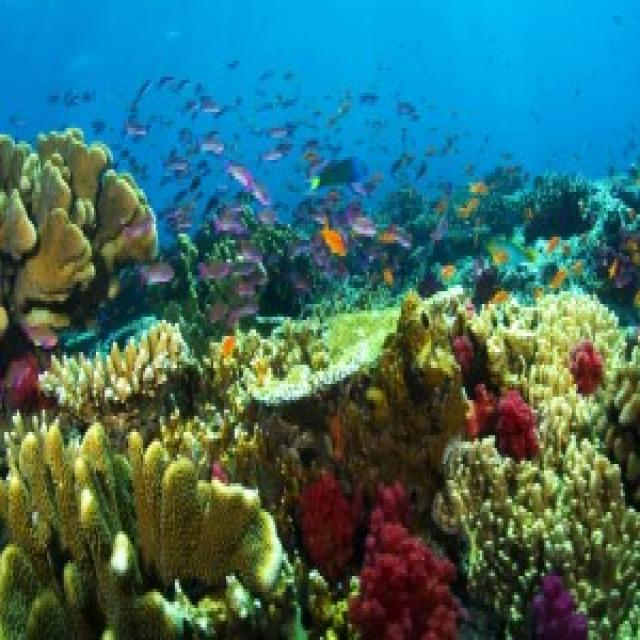Healthy: (434, 292, 639, 638), (1, 420, 289, 638), (436, 439, 639, 635), (1, 129, 157, 347), (347, 295, 464, 497), (351, 484, 455, 638), (42, 321, 193, 417), (246, 308, 398, 401), (300, 471, 362, 580)
